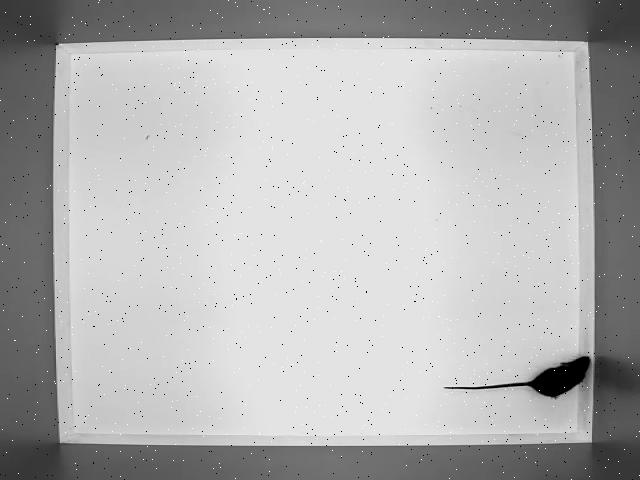Tikus: (443, 355, 593, 399)
